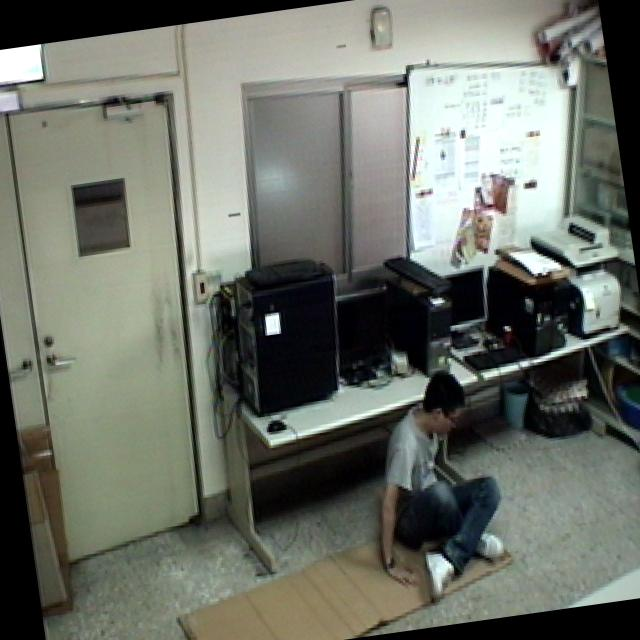sit: (354, 362, 521, 614)
